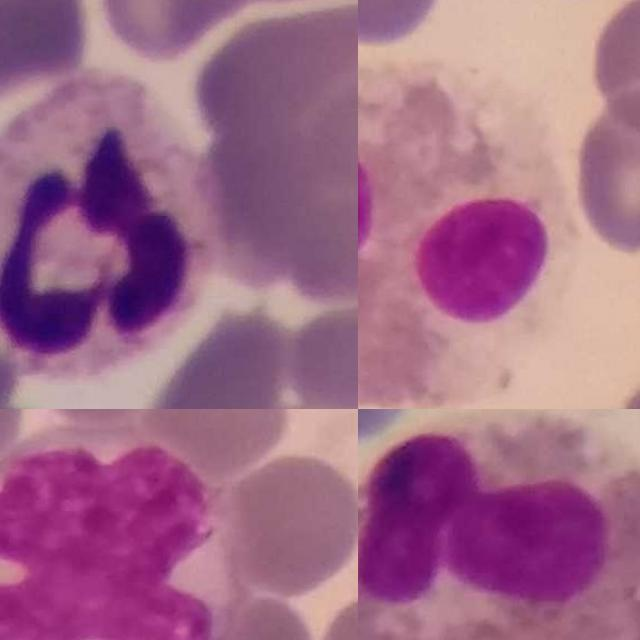Eosinophil: (358, 62, 576, 409), (358, 409, 640, 640)
Monocyte: (0, 427, 239, 640)
Neutrophil: (0, 70, 221, 380)
